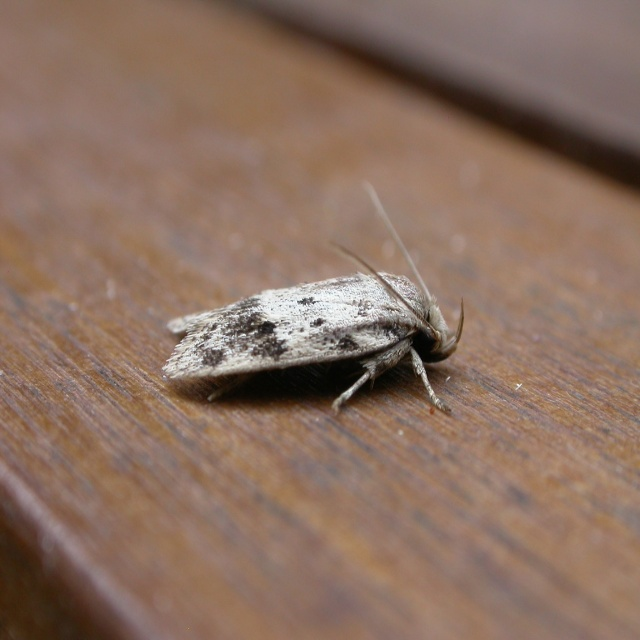Moths and butterflies: (161, 179, 464, 415)
